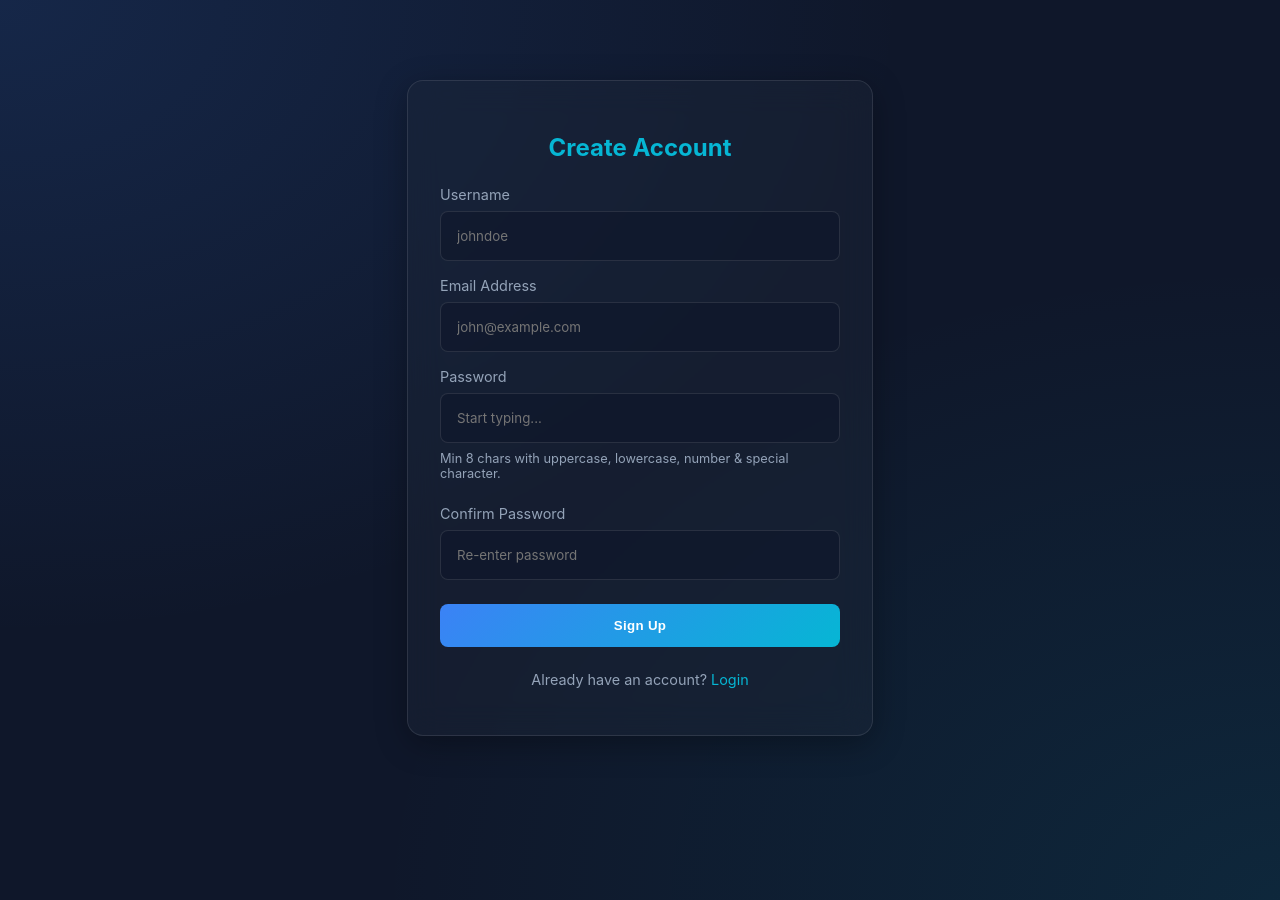
Scenario: Register Component › validates lowercase requirement
Type "testuser" into the field with placeholder "johndoe".
click(640, 236); type("testuser")  # box [440,211,840,261]
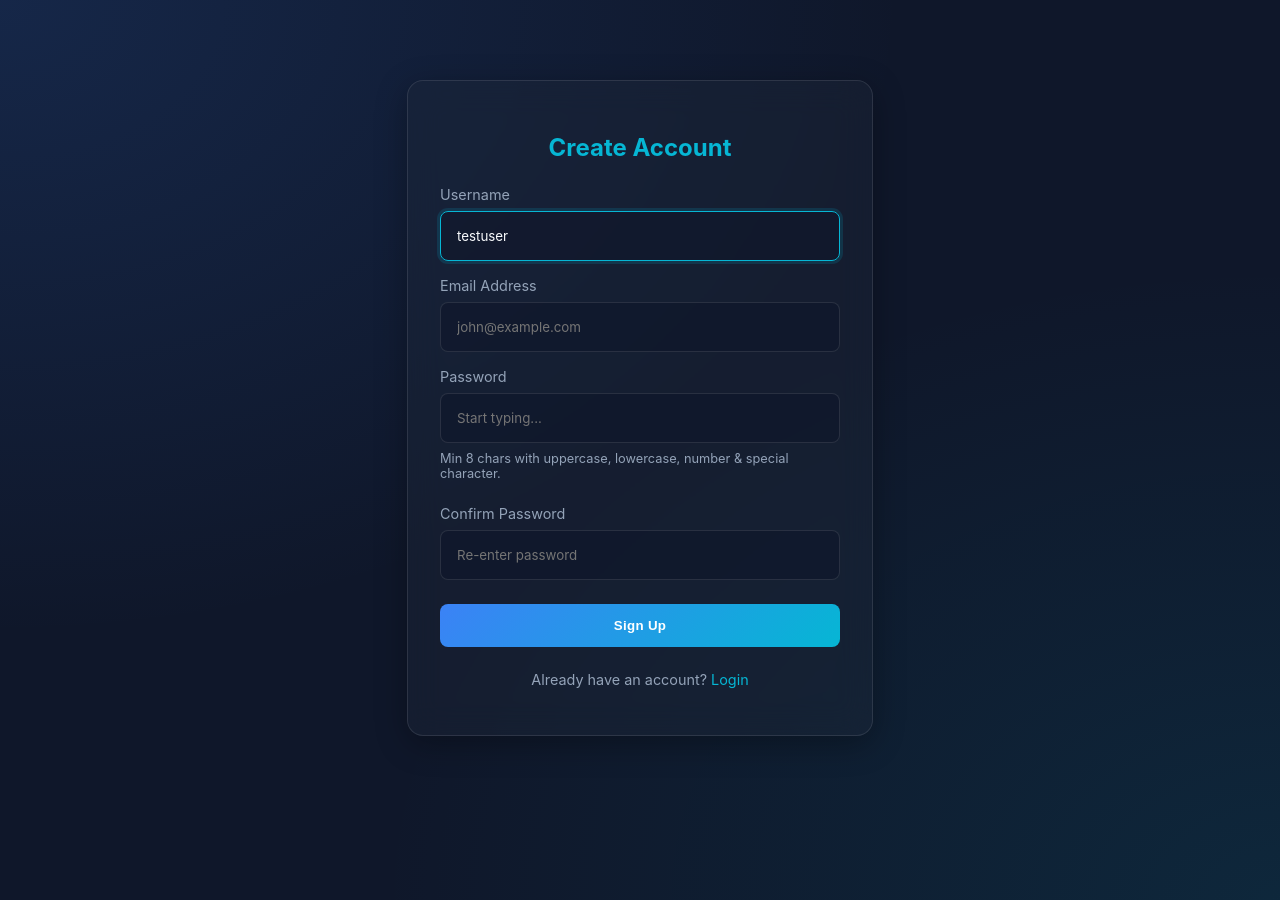
Type "test@example.com" into the field with placeholder "john@example.com".
click(640, 327); type("test@example.com")  # box [440,302,840,352]
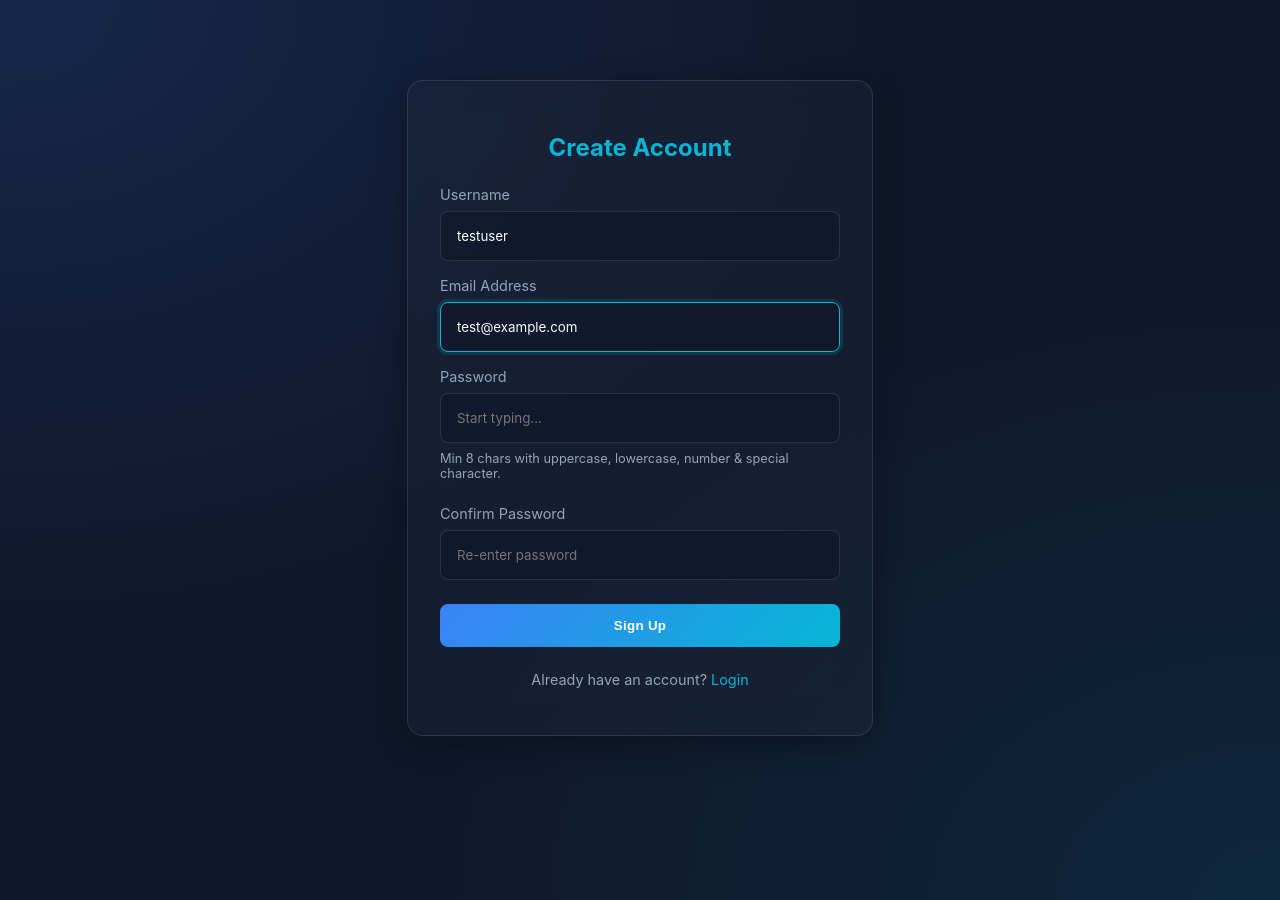
Type "PASSWORD123!" into the password field with placeholder "Start typing...".
click(640, 418); type("PASSWORD123!")  # box [440,393,840,443]
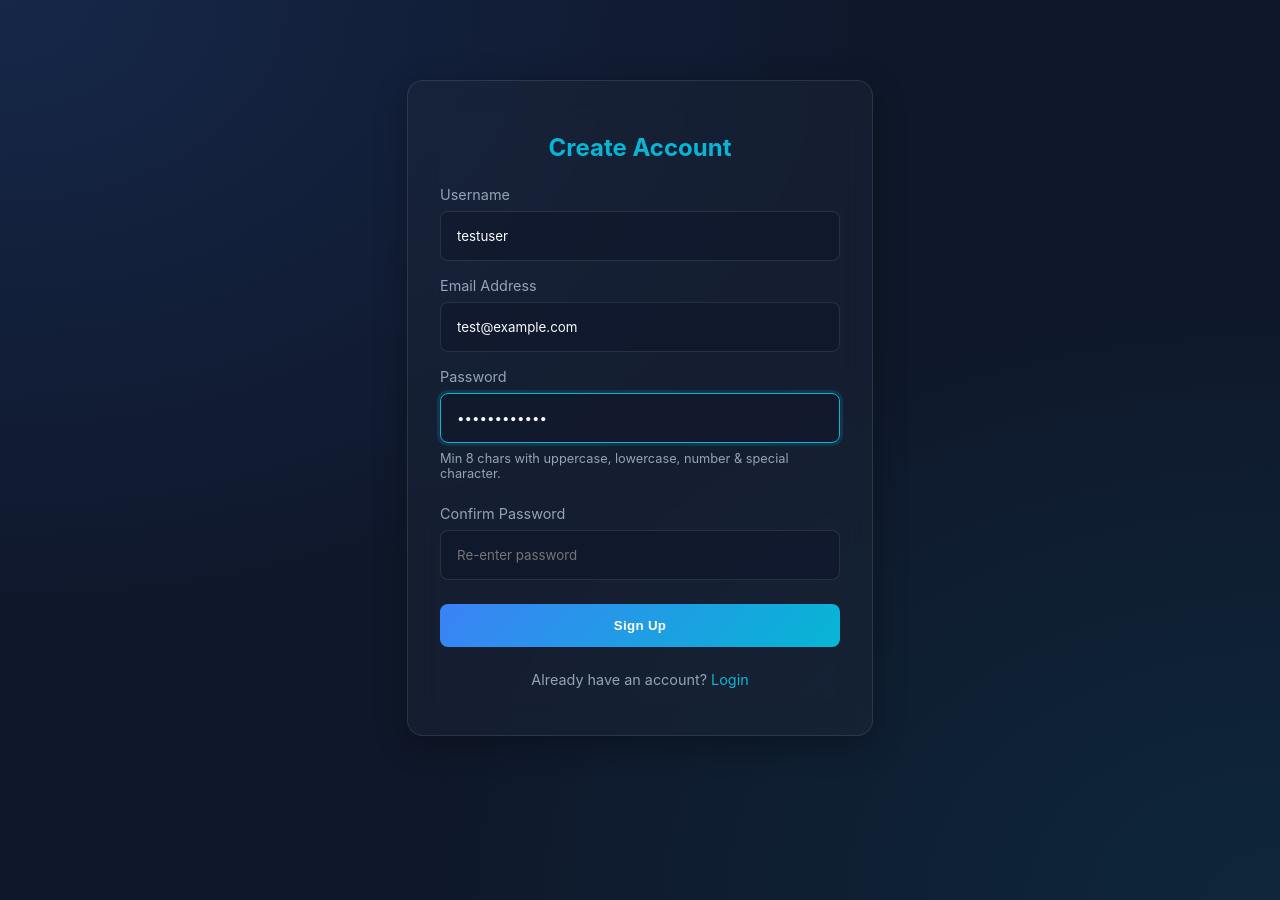
Type "PASSWORD123!" into the password field with placeholder "Re-enter password".
click(640, 555); type("PASSWORD123!")  # box [440,530,840,580]
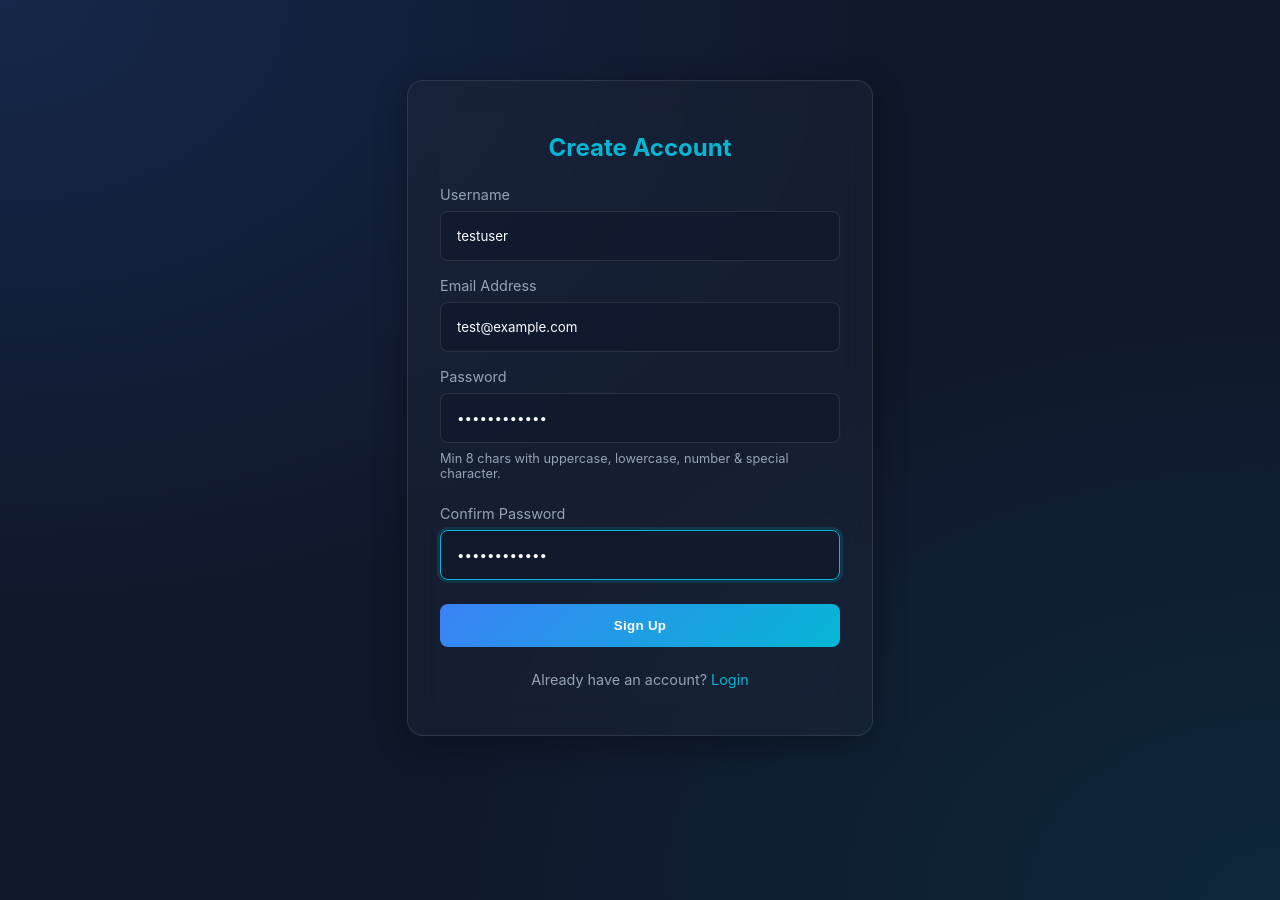
Click the button "Sign Up".
click(640, 626)  # box [440,604,840,647]
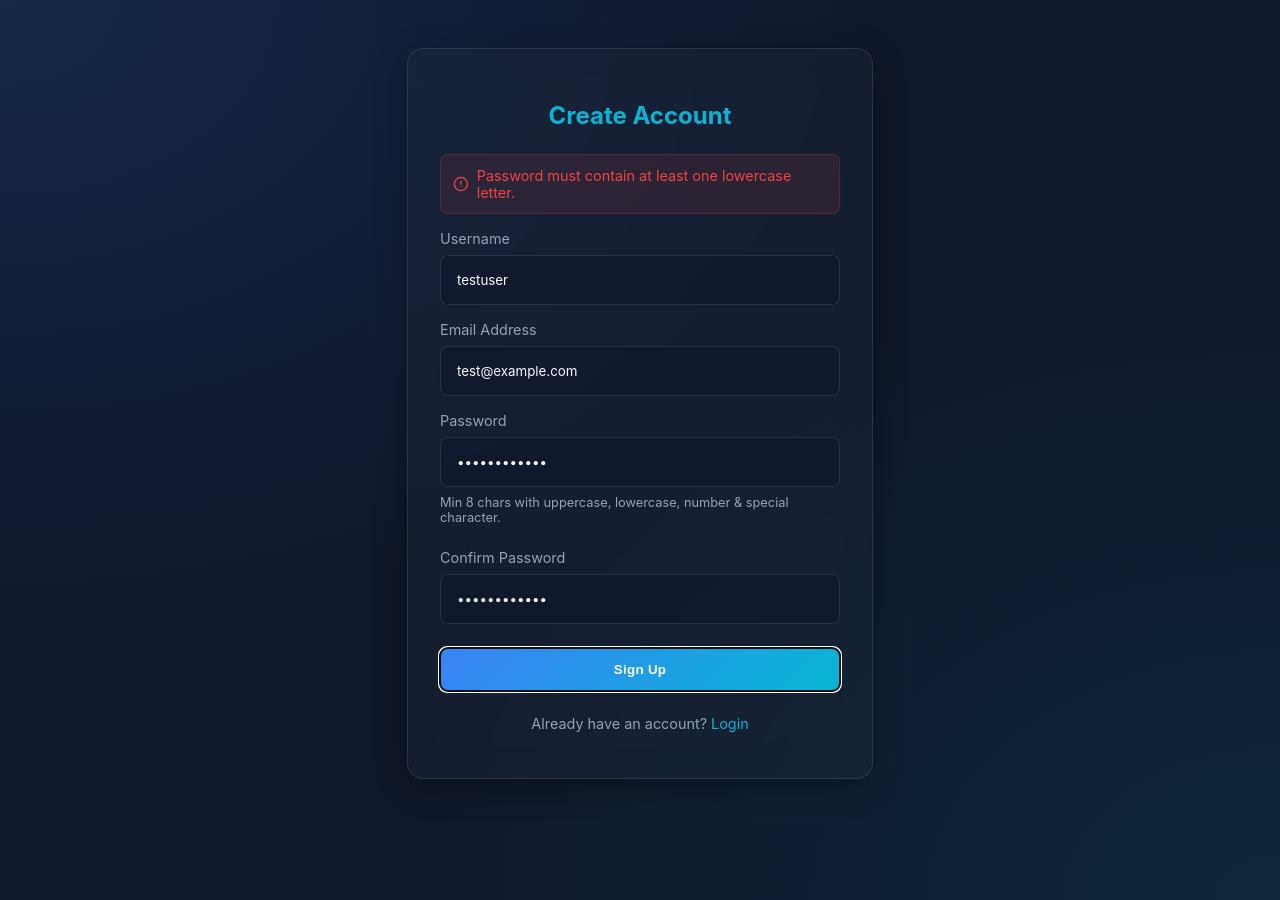
Expected: the text "Password must contain at least one lowercase letter." is shown, [440,154,840,214]
